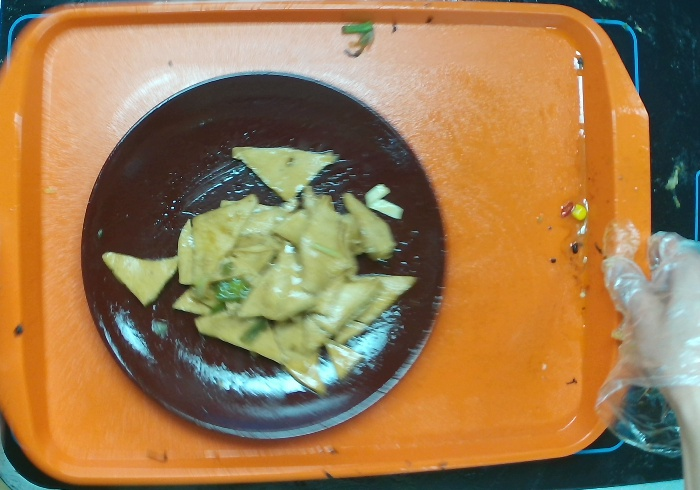HZYJPL-Ka_Fei_Yuan_Pan: (78, 62, 451, 442)
